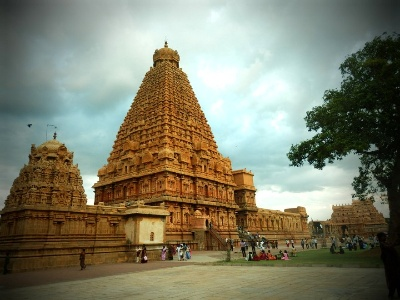gopura: (90, 61, 238, 195)
